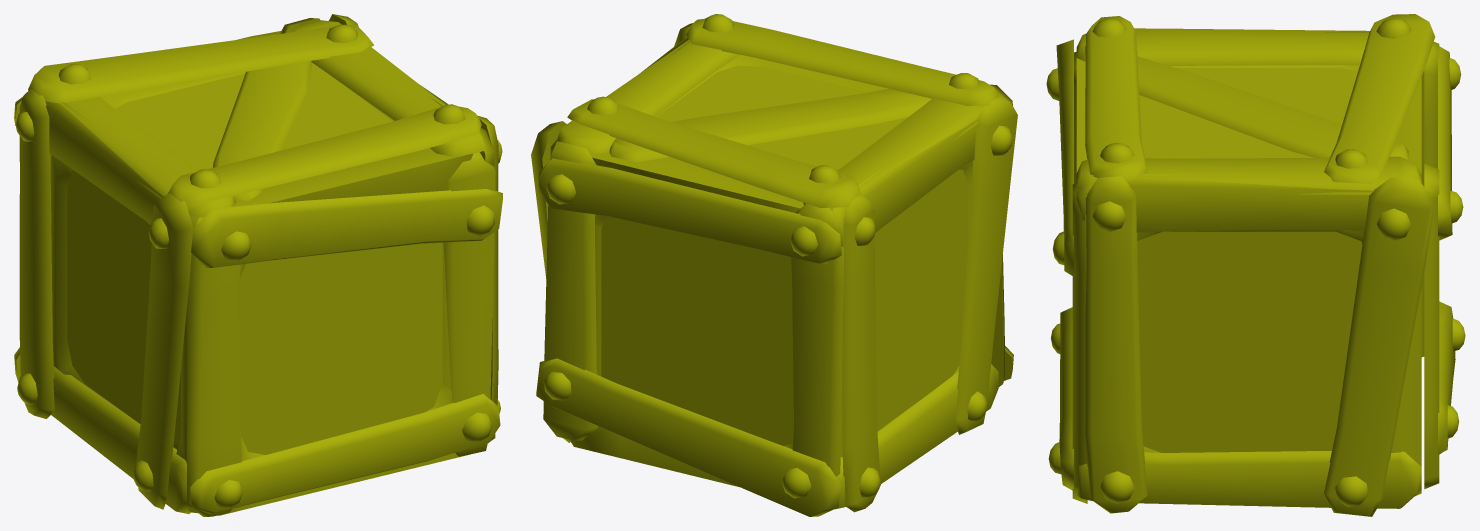
The model's file is SM_Crates_06.fbx.
3 renders of one model, left to right at view 1: azimuth 30°, elevation 25°; view 2: azimuth 150°, elevation 25°; view 3: azimuth 270°, elevation 25°, orthographic. The views are drawn at different scales.
Visible parts, largest first — view 1: Crates_06; view 2: Crates_06; view 3: Crates_06.
Part boxes in pixels (bbox=[...]): Crates_06: bbox=[14, 14, 502, 516]; Crates_06: bbox=[531, 14, 1017, 516]; Crates_06: bbox=[1046, 14, 1465, 516].
Bounding box in the file's own units: 94.06 × 89.23 × 94.06.
